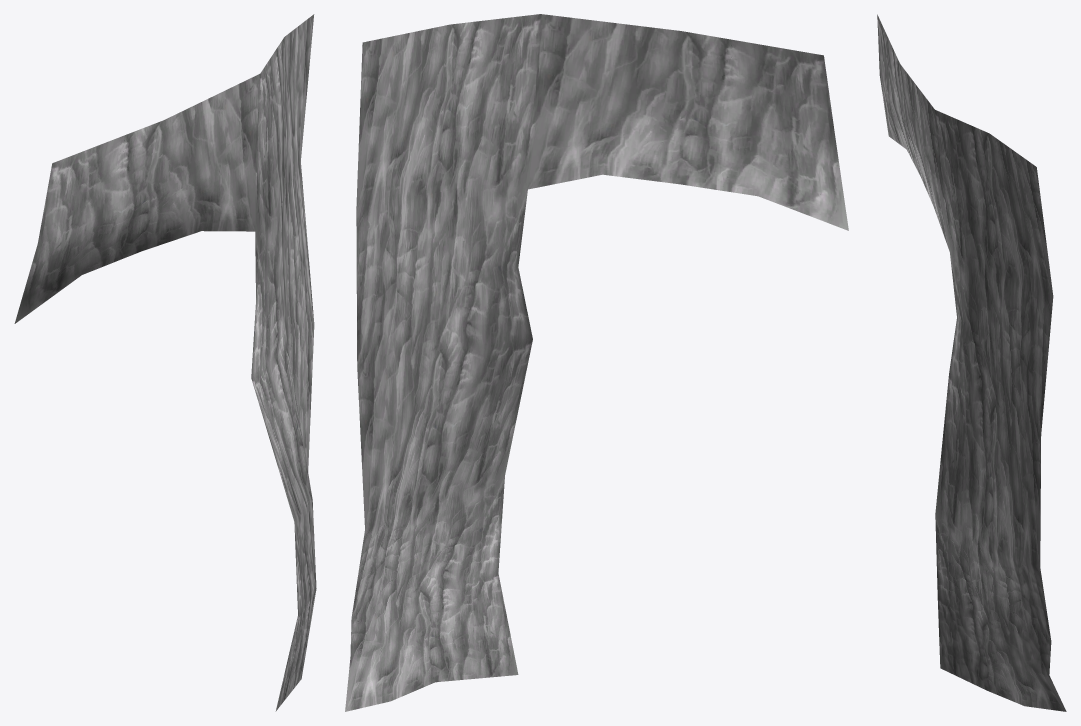
File: SWORDLIGHT20_PS-AREA03_172.fbx
3 renders of one model, left to right at view 1: azimuth 30°, elevation 25°; view 2: azimuth 150°, elevation 25°; view 3: azimuth 270°, elevation 25°, orthographic. The views are drawn at different scales.
Parts seen in each view (by area): view 1: SWORDLIGHT20_PS-AREA03_172; view 2: SWORDLIGHT20_PS-AREA03_172; view 3: SWORDLIGHT20_PS-AREA03_172.
Part boxes in pixels (x1,y1,x2,y2): SWORDLIGHT20_PS-AREA03_172: (14, 14, 316, 711); SWORDLIGHT20_PS-AREA03_172: (345, 14, 848, 711); SWORDLIGHT20_PS-AREA03_172: (877, 14, 1066, 711).
Bounding box in the file's own units: 127659 × 203848 × 62760.
Materials: 1 (1 with a texture image).
